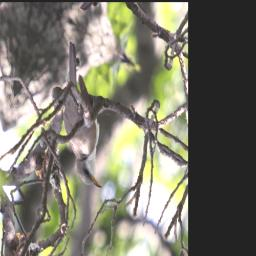Cuckoo: (36, 37, 135, 198)
